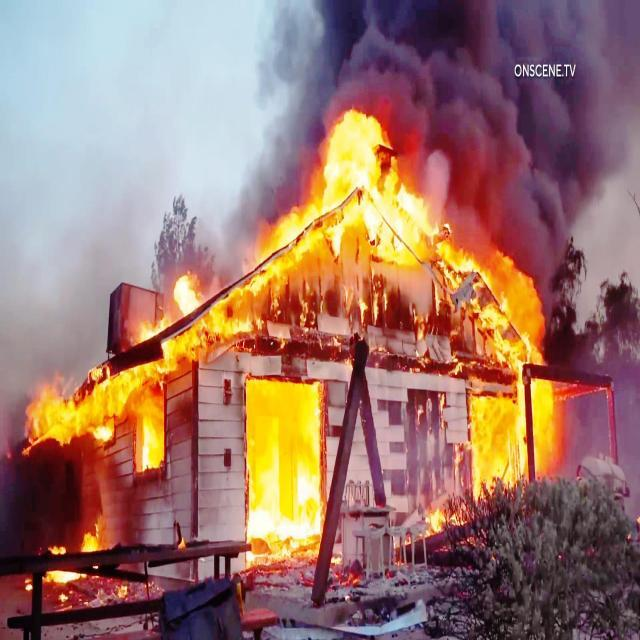Fire: (461, 260, 552, 478), (39, 364, 168, 468), (330, 110, 414, 259), (248, 376, 318, 540)
Smoke: (448, 108, 606, 259)
